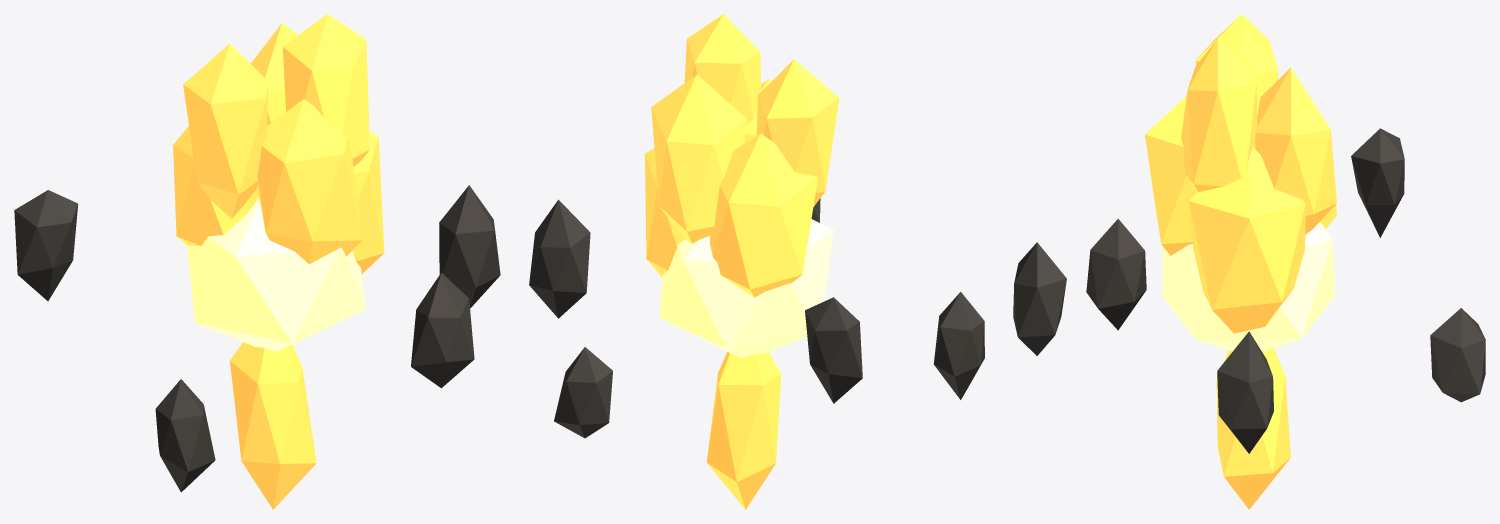
Rendered from wb_ember_wisp_lod1.glb.
3 renders of one model, left to right at view 1: azimuth 30°, elevation 25°; view 2: azimuth 150°, elevation 25°; view 3: azimuth 270°, elevation 25°, orthographic. The views are drawn at different scales.
Visible parts, largest first — view 1: wb_ember_wisp; view 2: wb_ember_wisp; view 3: wb_ember_wisp.
Boxes of the visible parts, bbox=[...] form: wb_ember_wisp: bbox=[14, 14, 500, 509]; wb_ember_wisp: bbox=[529, 14, 984, 509]; wb_ember_wisp: bbox=[1013, 14, 1485, 509].
Bounding box in the file's own units: 1.3 × 1.51 × 1.31.
